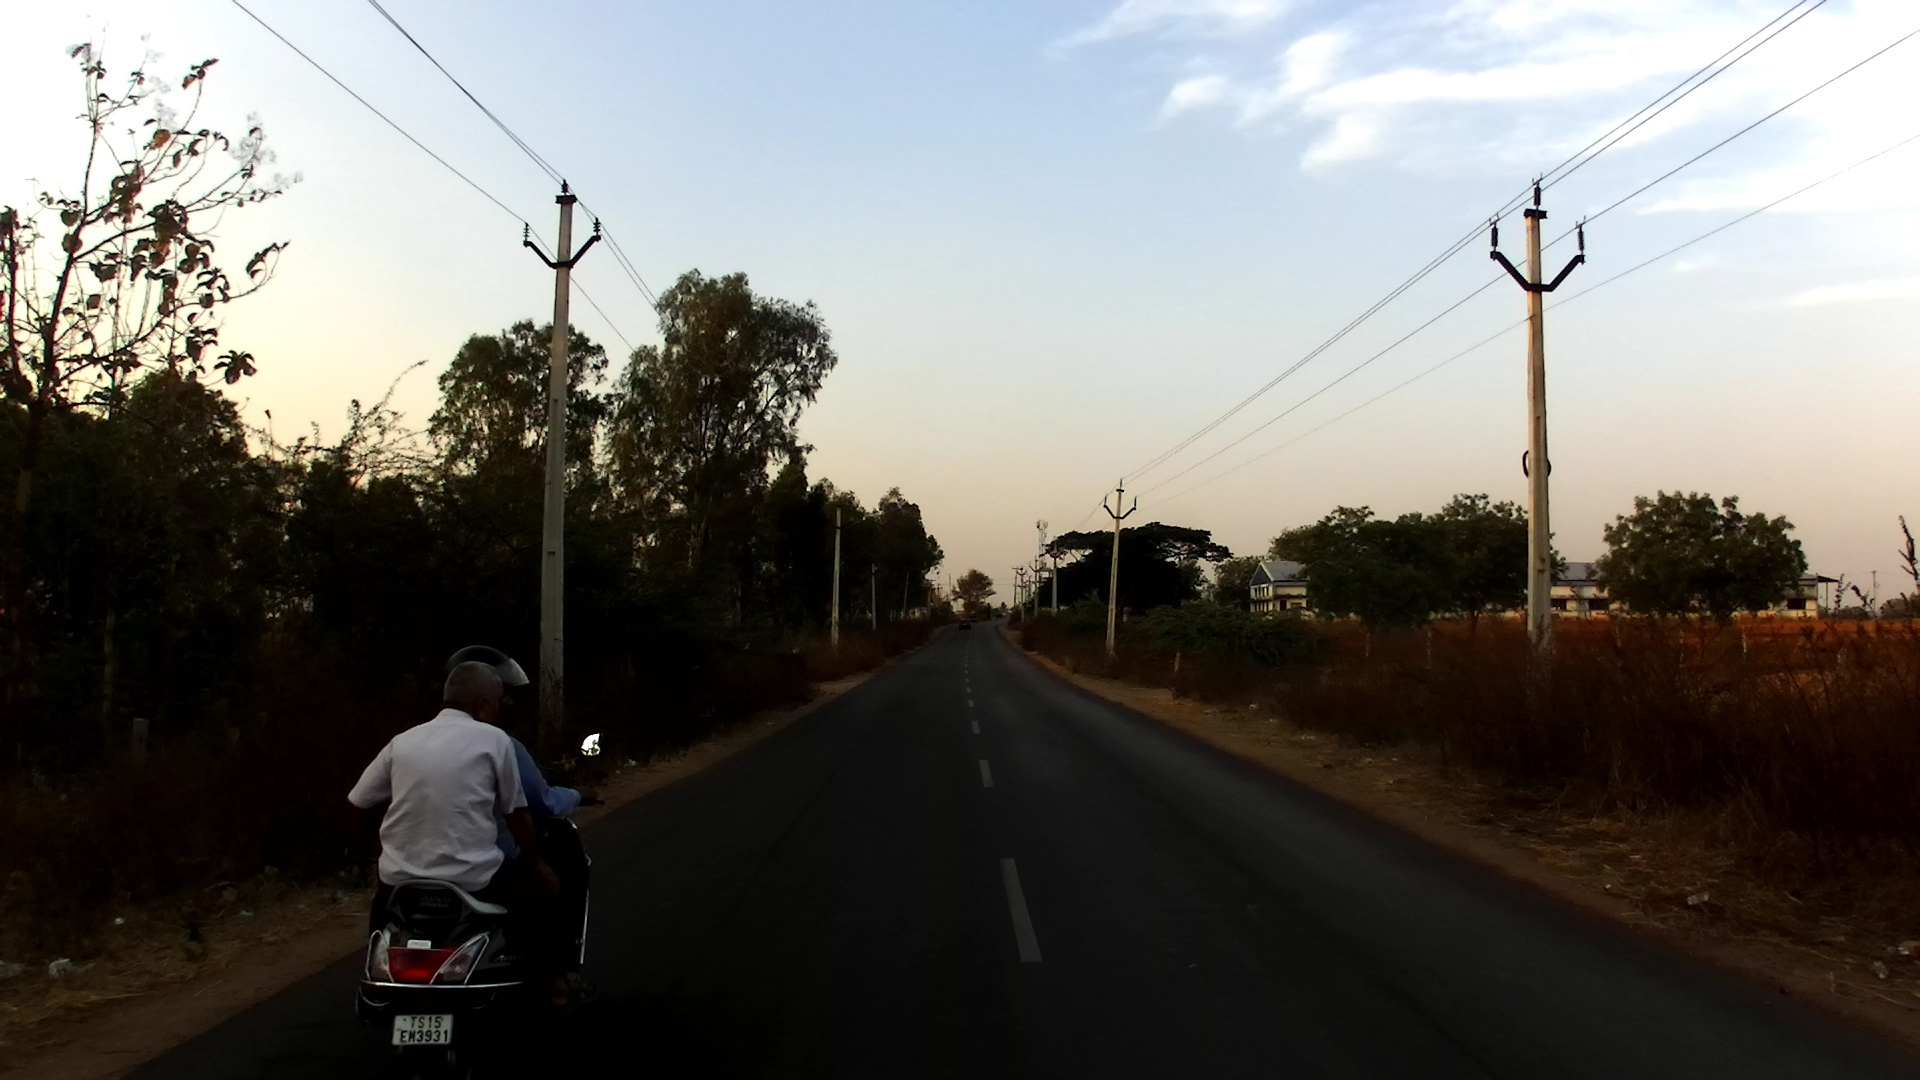car: (956, 617, 979, 630)
motorcycle: (353, 724, 617, 1077)
rider: (345, 657, 586, 1019), (432, 642, 604, 962)
